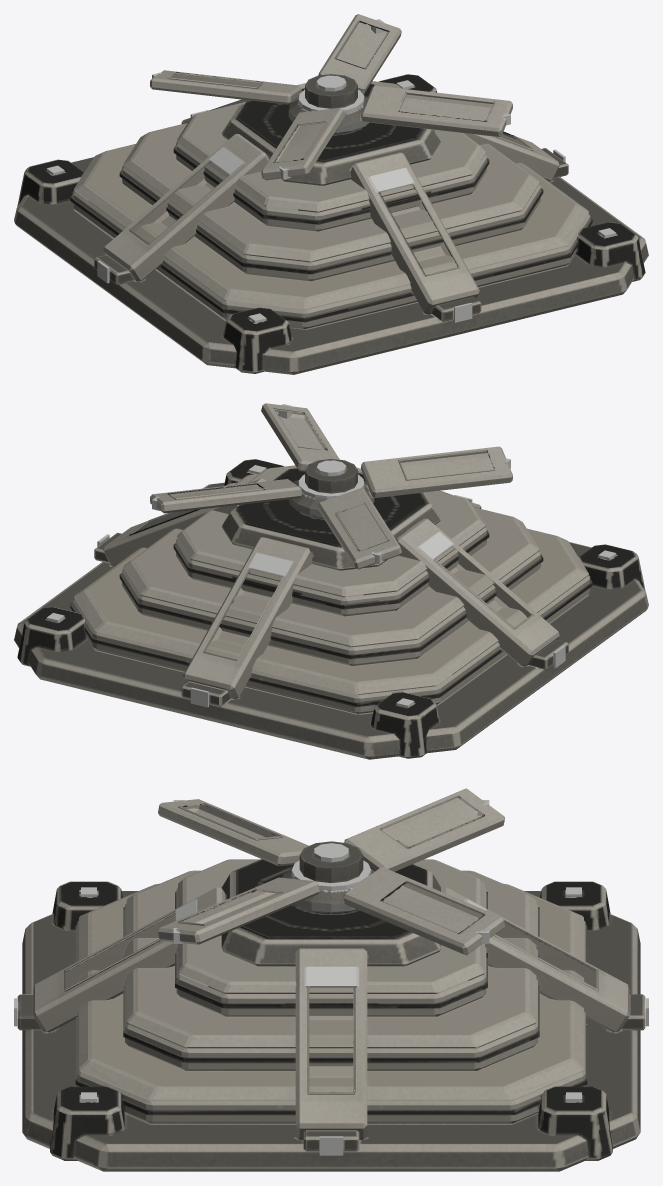
The model's file is ord_seaextractor.fbx.
3 renders of one model, top to bottom at view 1: azimuth 30°, elevation 25°; view 2: azimuth 150°, elevation 25°; view 3: azimuth 270°, elevation 25°, orthographic. The views are drawn at different scales.
Parts seen in each view (by area): view 1: base_bar, drill_bar, base_glow_running_bar, drill_glow_power_bar, base_glow_head_bar; view 2: base_bar, drill_bar, base_glow_running_bar, drill_glow_power_bar, base_glow_head_bar; view 3: base_bar, drill_bar, base_glow_running_bar, drill_glow_power_bar, base_glow_head_bar.
Part boxes in pixels (x1,y1,x2,y2): base_bar: (14, 74, 648, 374); drill_bar: (150, 14, 512, 180); base_glow_running_bar: (46, 80, 616, 323); drill_glow_power_bar: (298, 75, 364, 113); base_glow_head_bar: (97, 110, 565, 322); base_bar: (14, 459, 648, 759); drill_bar: (150, 403, 512, 569); base_glow_running_bar: (46, 465, 616, 707); drill_glow_power_bar: (298, 460, 364, 499); base_glow_head_bar: (97, 495, 565, 707); base_bar: (17, 859, 645, 1171); drill_bar: (158, 788, 504, 955); base_glow_running_bar: (81, 887, 581, 1101); drill_glow_power_bar: (291, 843, 371, 890); base_glow_head_bar: (14, 998, 648, 1155).
Bounding box in the file's own units: 1598 × 734 × 1598.
Materials: 2 (2 with a texture image).
